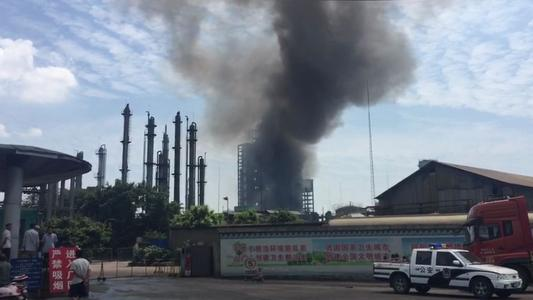smoke: (170, 1, 392, 148)
